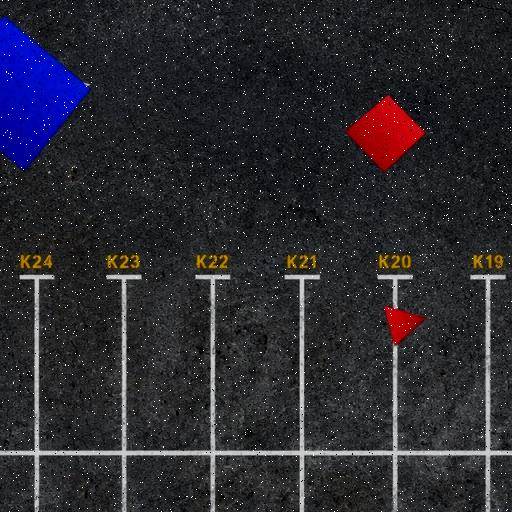BLUE_SQUARE: (0, 15, 92, 172)
RED_SQUARE: (344, 94, 426, 174)
